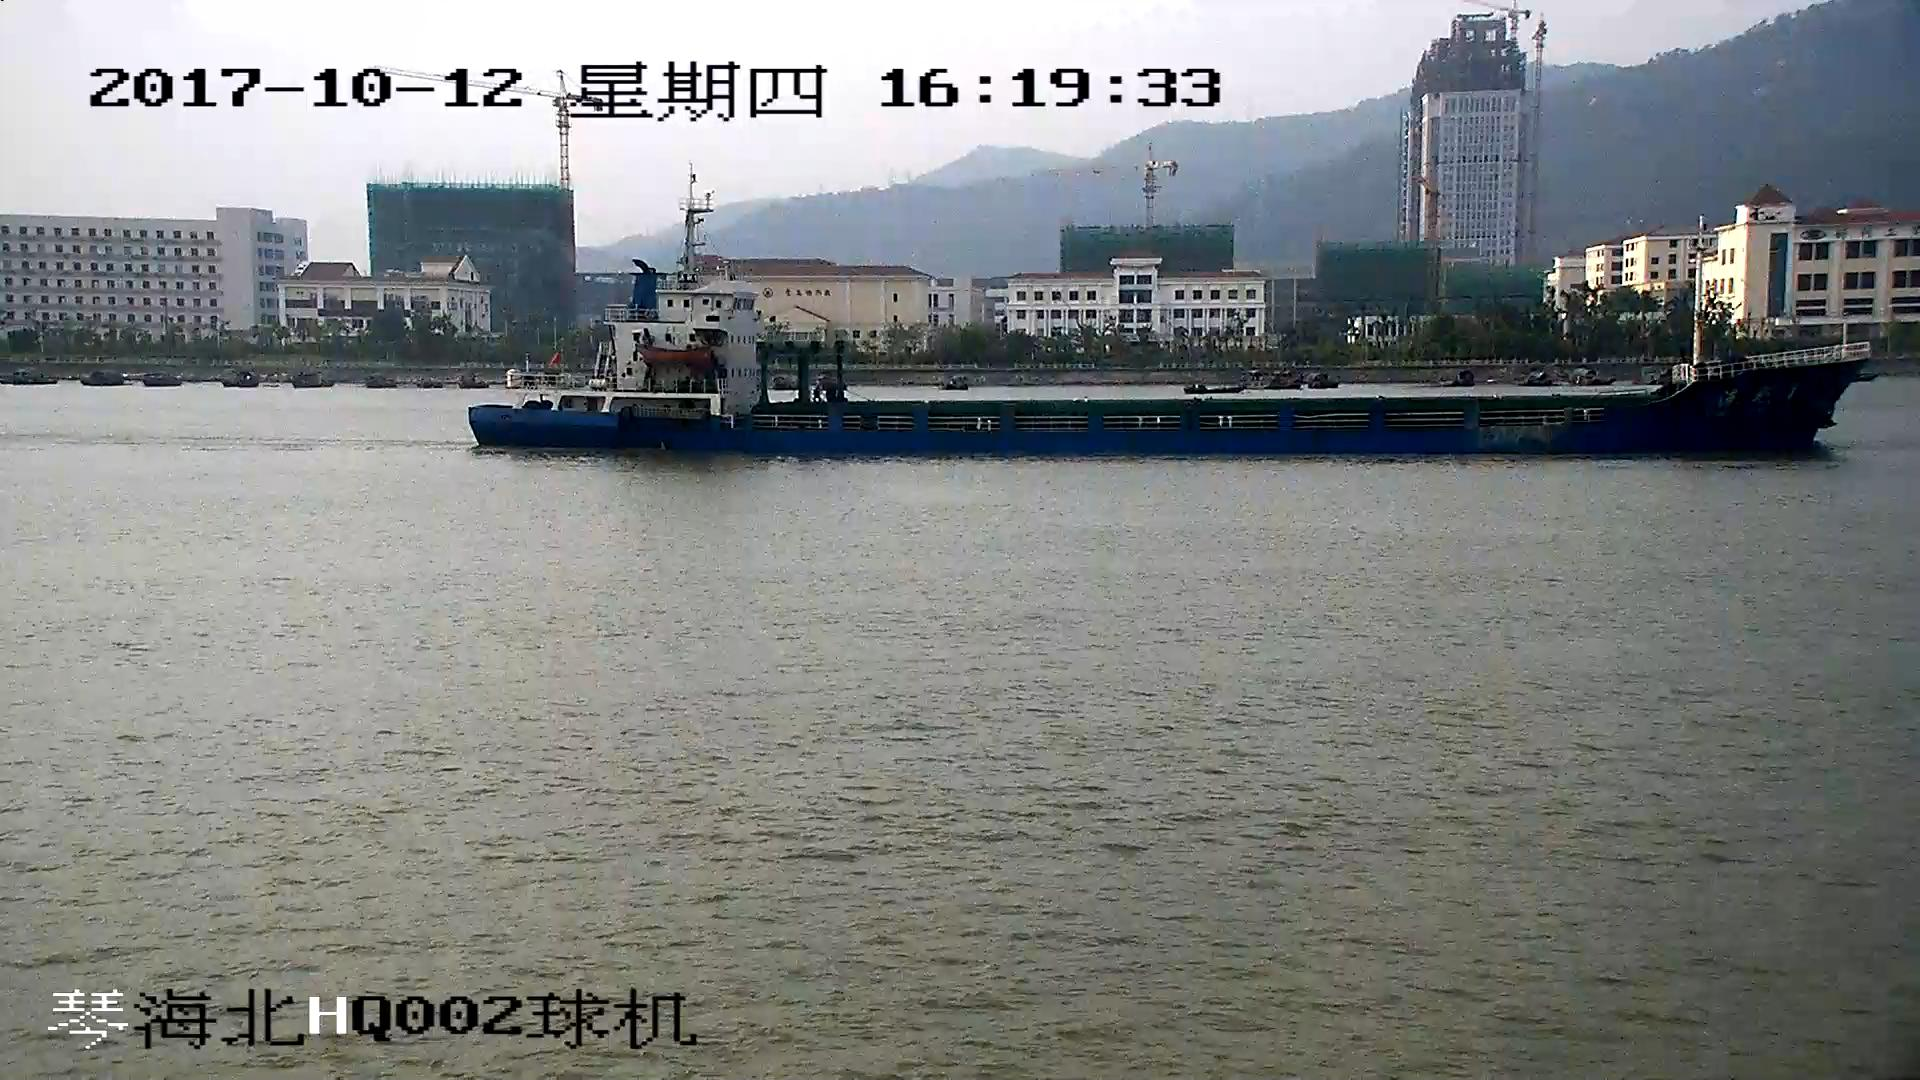general cargo ship: (468, 186, 1868, 457)
